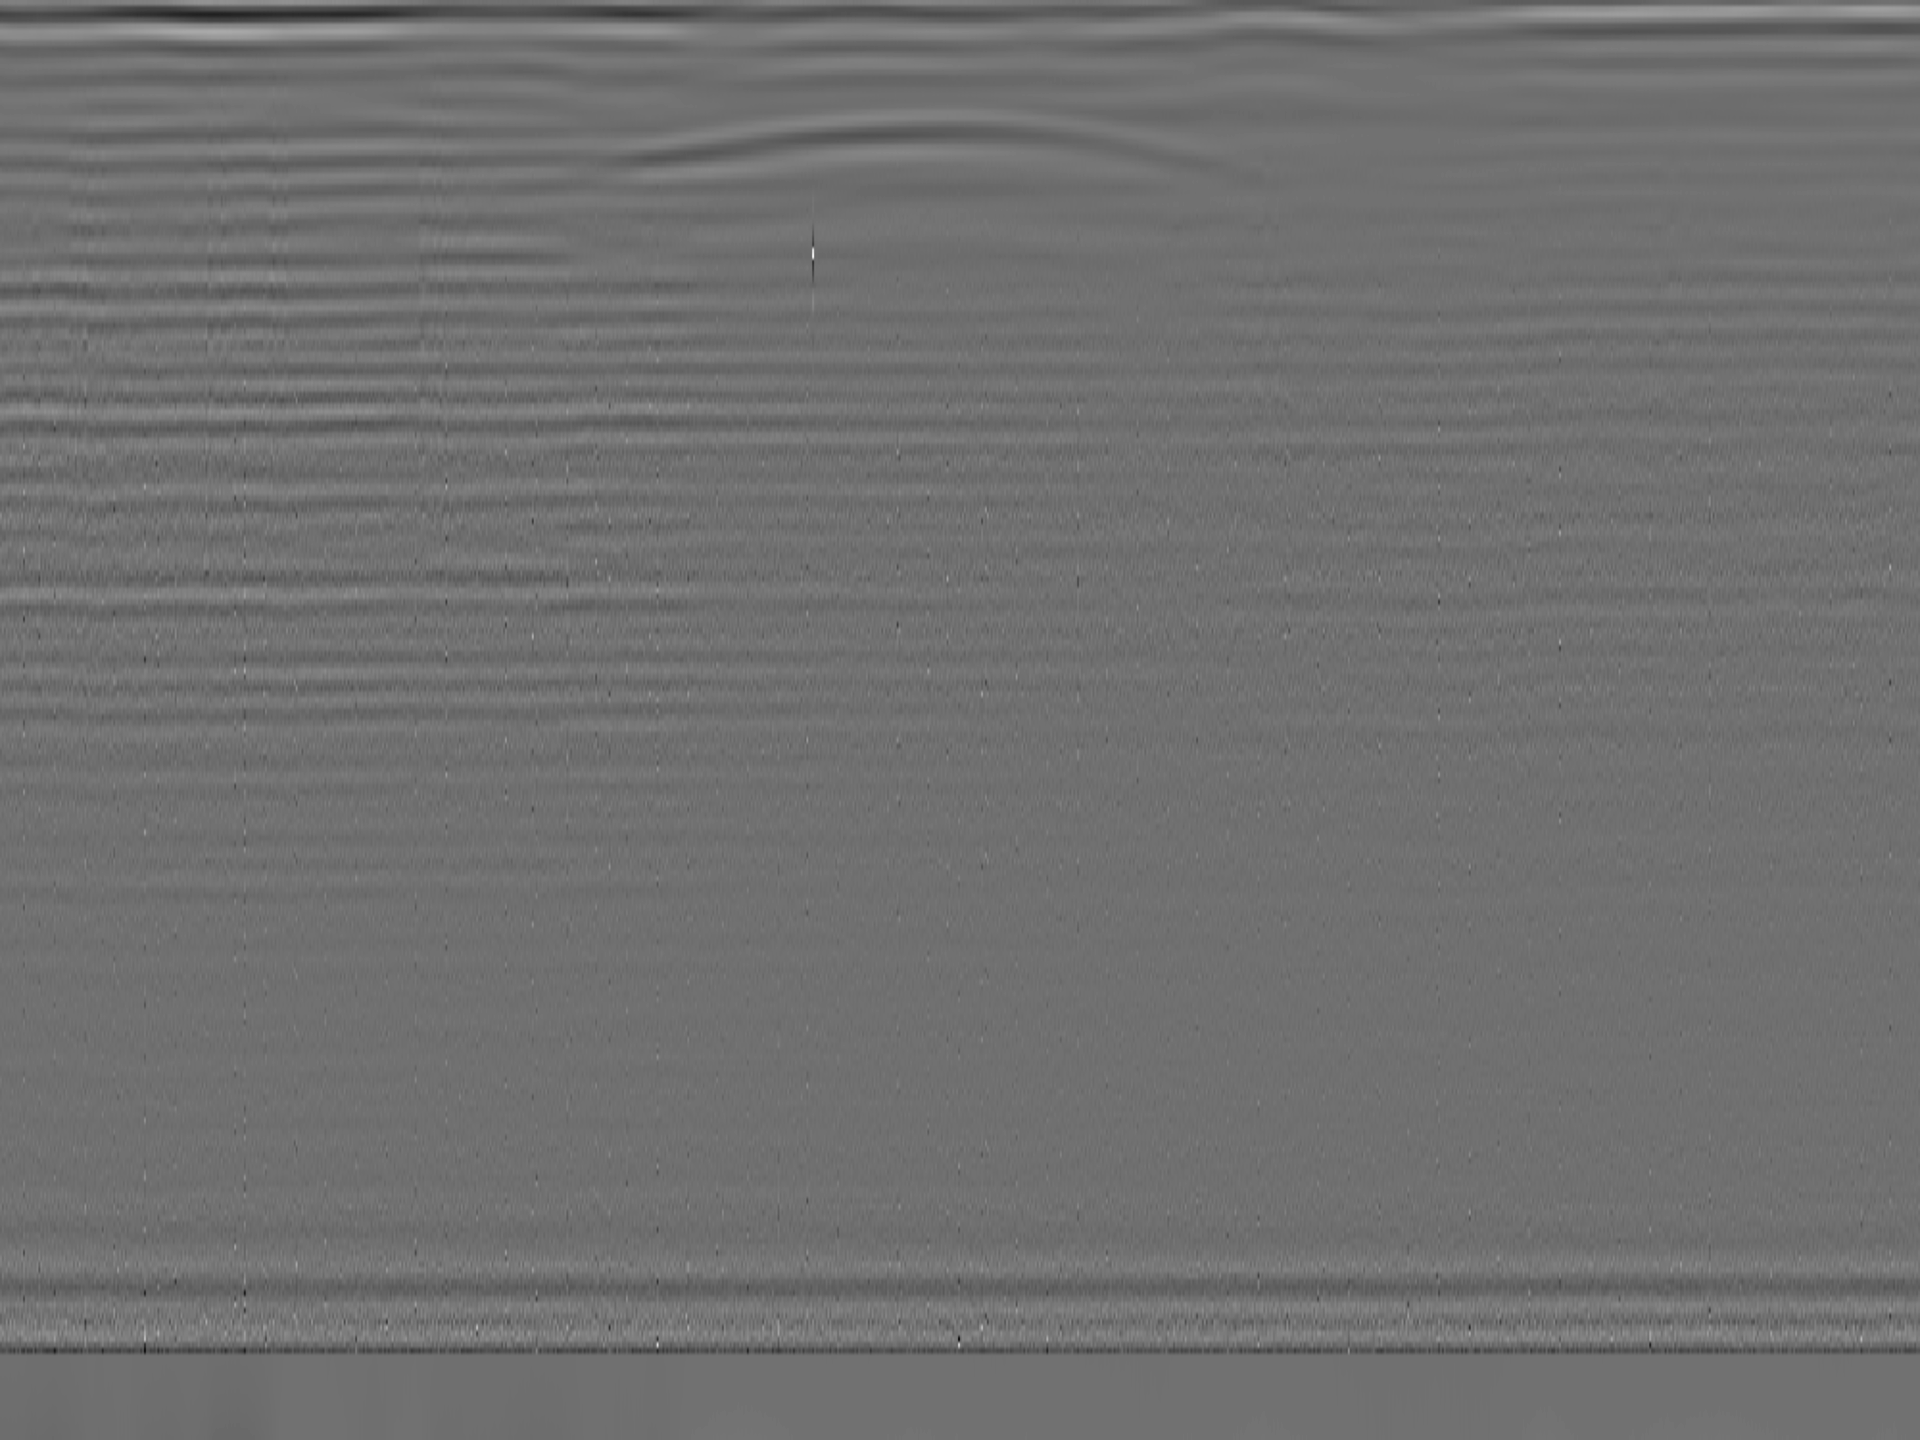Tunnel: (593, 106, 1258, 182)
